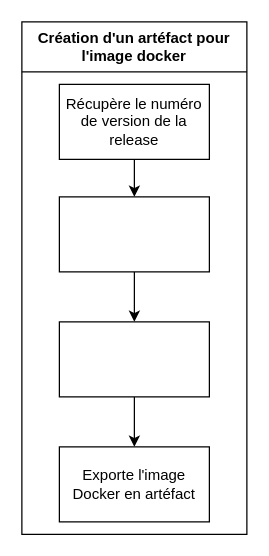
This 269x556 diagram has some shape labels left out. Here are the shapes that lost their labels. From the top down, the centre of each, then its label:
At (133,234): "Import du serveur au format binaire".
At (133,359): "Construit l'image Docker".
